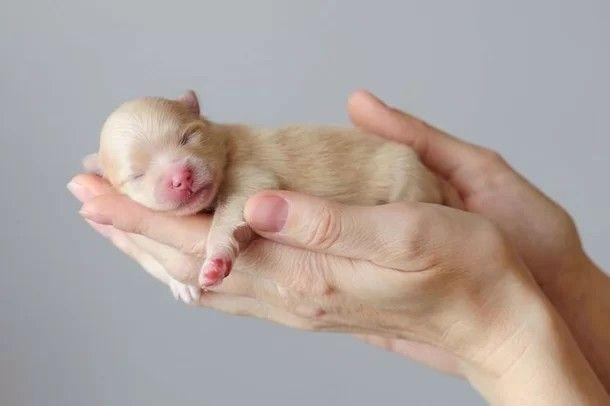puppy-dog: (95, 85, 465, 307)
